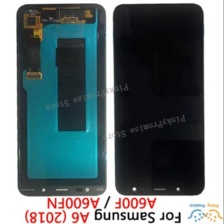phone: (109, 1, 209, 198), (13, 1, 110, 198)
